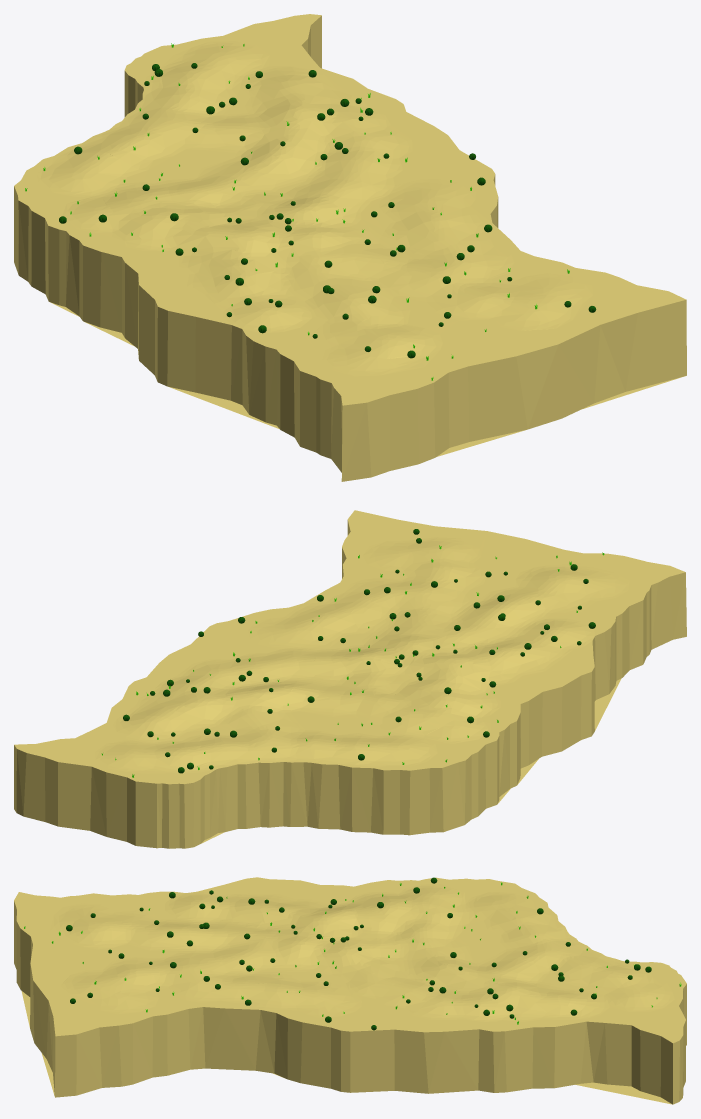
File: DesertLevelPart1.fbx
3 renders of one model, top to bottom at view 1: azimuth 30°, elevation 25°; view 2: azimuth 150°, elevation 25°; view 3: azimuth 270°, elevation 25°, orthographic. The views are drawn at different scales.
Visible parts, largest first — view 1: Orc_Desert_Part1_Level; view 2: Orc_Desert_Part1_Level; view 3: Orc_Desert_Part1_Level.
Part boxes in pixels (x1,y1,x2,y2): Orc_Desert_Part1_Level: (14,14,686,481); Orc_Desert_Part1_Level: (14,510,686,848); Orc_Desert_Part1_Level: (14,877,686,1104).
Bounding box in the file's own units: 1164 × 1992 × 238.
